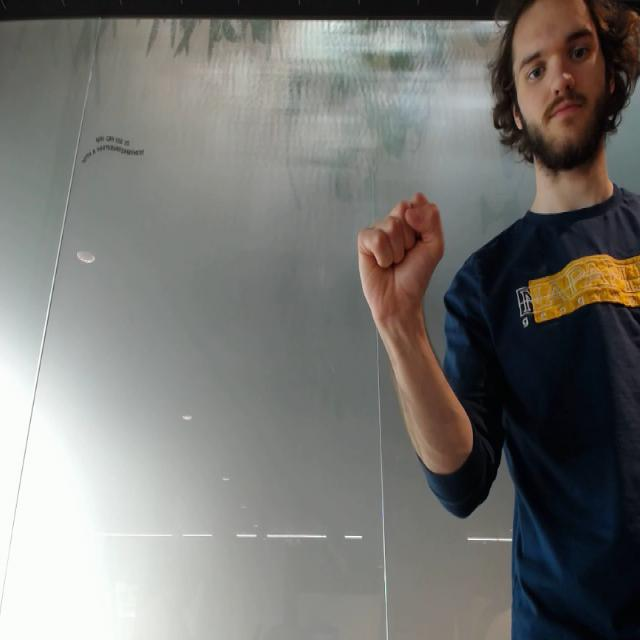stop: (354, 188, 450, 327)
